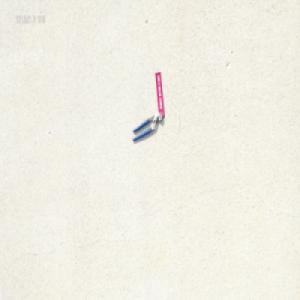Label: (154, 71, 165, 120)
Pliers: (131, 112, 163, 145)
